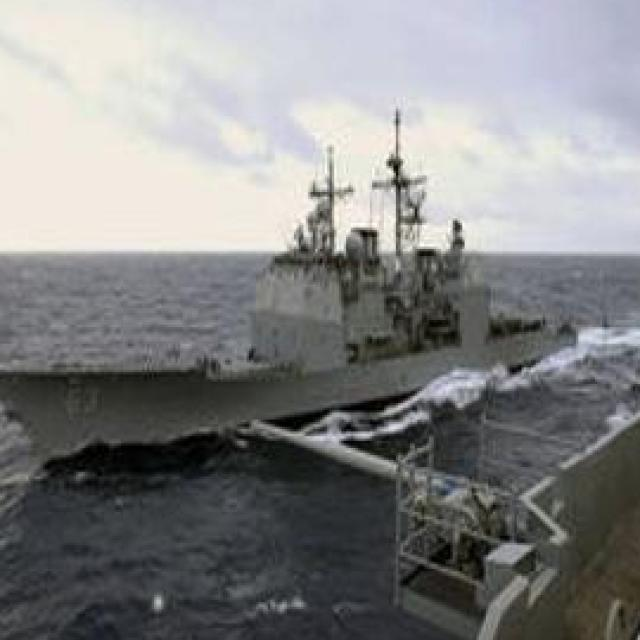navalvessels: (0, 111, 602, 479)
